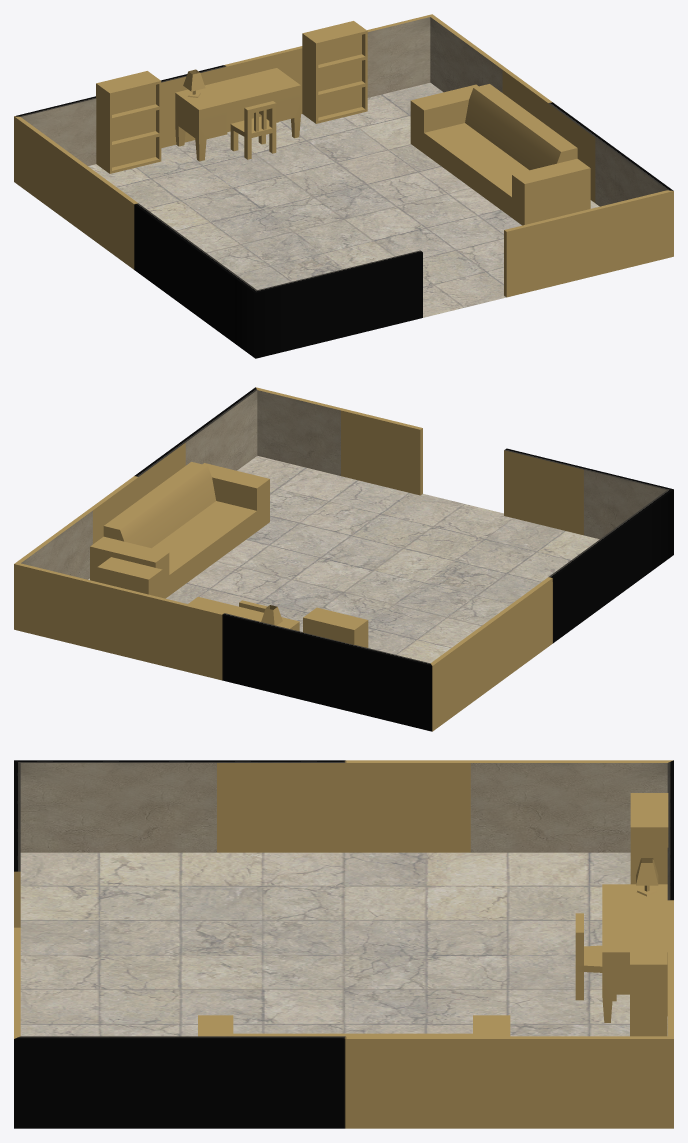
Rendered from Room1x1_1Exits.fbx.
3 renders of one model, top to bottom at view 1: azimuth 30°, elevation 25°; view 2: azimuth 150°, elevation 25°; view 3: azimuth 270°, elevation 25°, orthographic. The views are drawn at different scales.
Visible parts, largest first — view 1: Room1x1_1Exit, Sofa1, Desk1, BookShelf06, BookShelf07, Chair03; view 2: Room1x1_1Exit, Sofa1, BookShelf06, BookShelf07, Desk1; view 3: Room1x1_1Exit, Desk1, BookShelf06, BookShelf07, Sofa1, Chair03.
Boxes of the visible parts, bbox=[...] form: Room1x1_1Exit: bbox=[14, 14, 673, 358]; Sofa1: bbox=[410, 84, 590, 225]; Desk1: bbox=[175, 68, 300, 161]; BookShelf06: bbox=[302, 21, 367, 123]; BookShelf07: bbox=[96, 71, 161, 173]; Chair03: bbox=[230, 101, 276, 159]; Room1x1_1Exit: bbox=[14, 387, 673, 731]; Sofa1: bbox=[90, 462, 269, 598]; BookShelf06: bbox=[97, 557, 162, 597]; BookShelf07: bbox=[303, 607, 368, 647]; Desk1: bbox=[188, 596, 299, 631]; Room1x1_1Exit: bbox=[14, 760, 673, 1128]; Desk1: bbox=[602, 858, 667, 1022]; BookShelf06: bbox=[630, 930, 667, 1036]; BookShelf07: bbox=[630, 793, 668, 884]; Sofa1: bbox=[198, 1015, 510, 1036]; Chair03: bbox=[575, 913, 616, 1001].
Size of the model in its own units: 10 by 1.89 by 10.
1 material, 1 textured.
